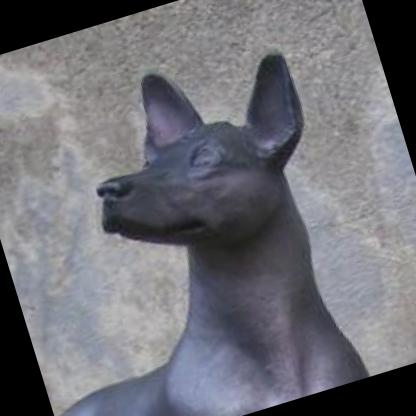Mexican_hairless: (0, 25, 387, 416)
